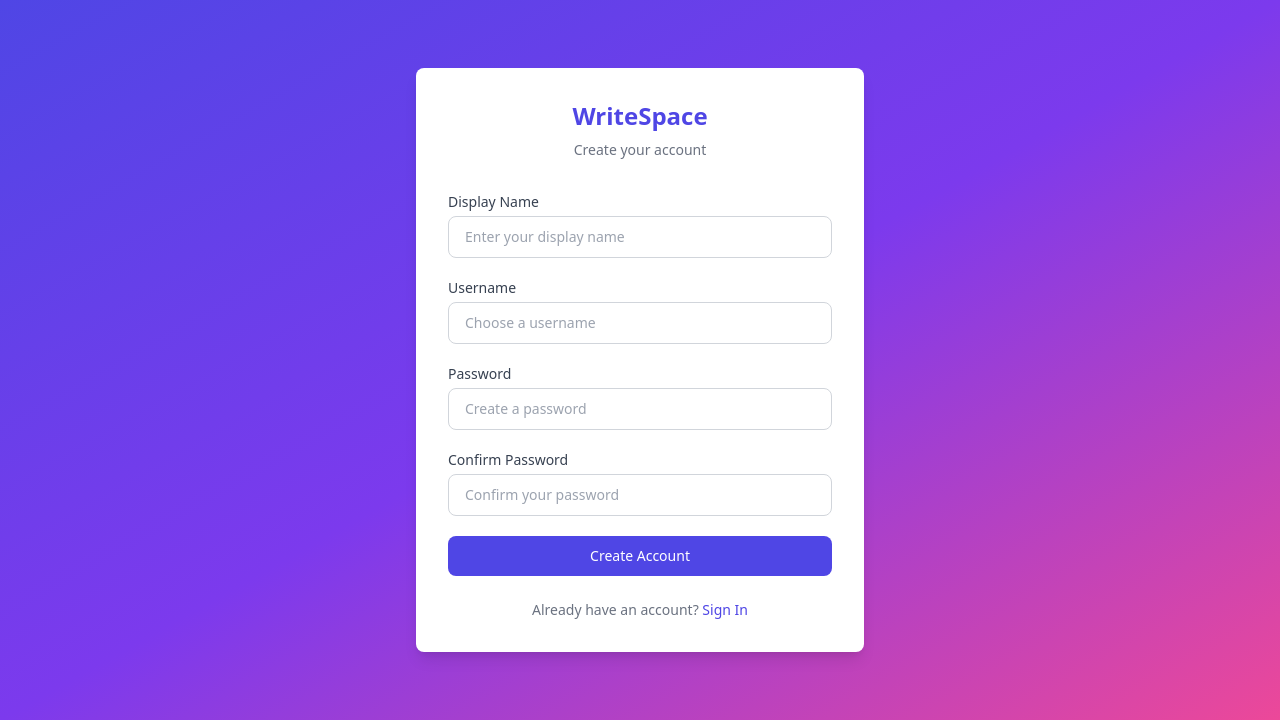
RegisterPage › validation › displays error when display name is empty
In the field labelled "Username": x=640, y=323 [448, 302, 832, 344], type "johndoe"
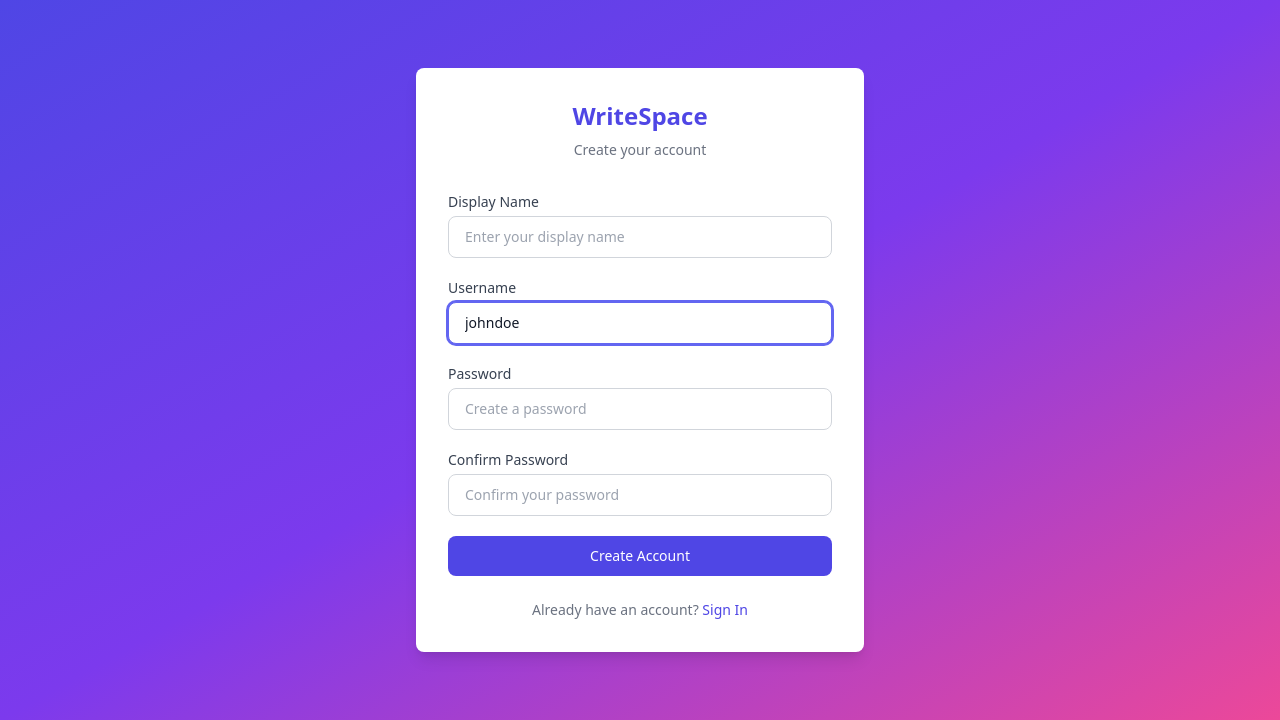
In the password field labelled "Password": x=640, y=409 [448, 388, 832, 430], type "pass123"
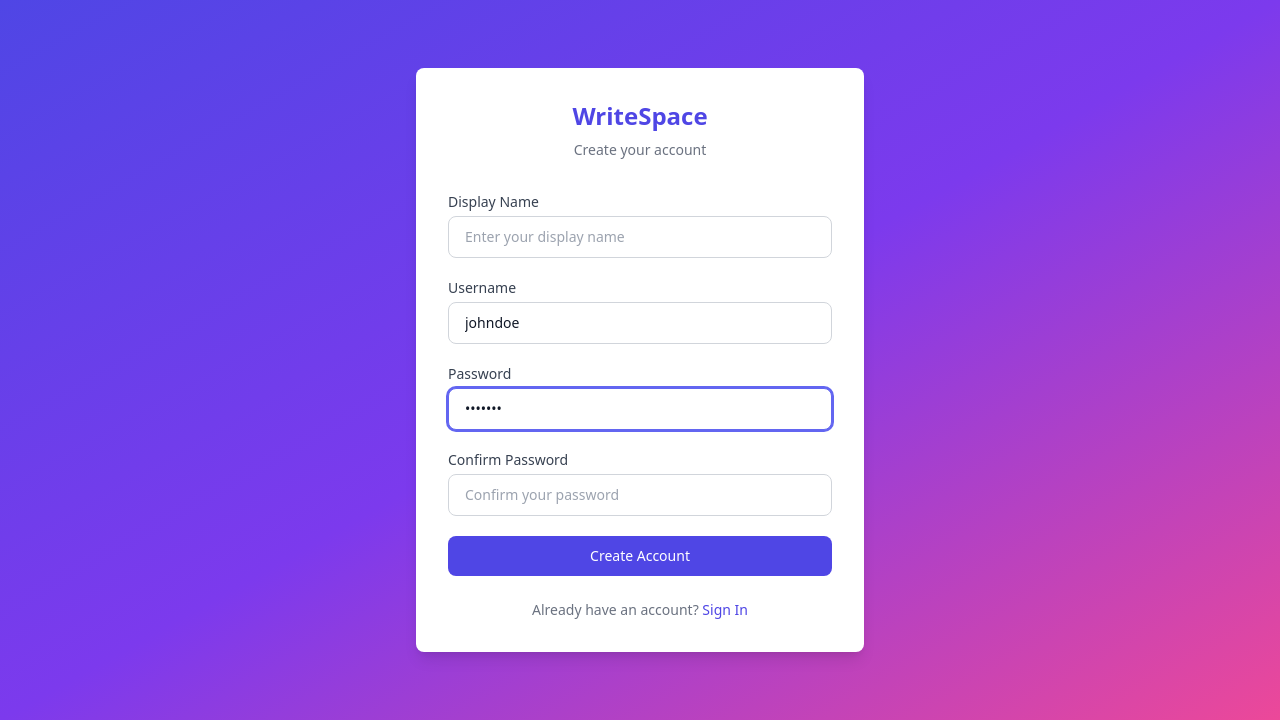
In the password field labelled "Confirm Password": x=640, y=495 [448, 474, 832, 516], type "pass123"
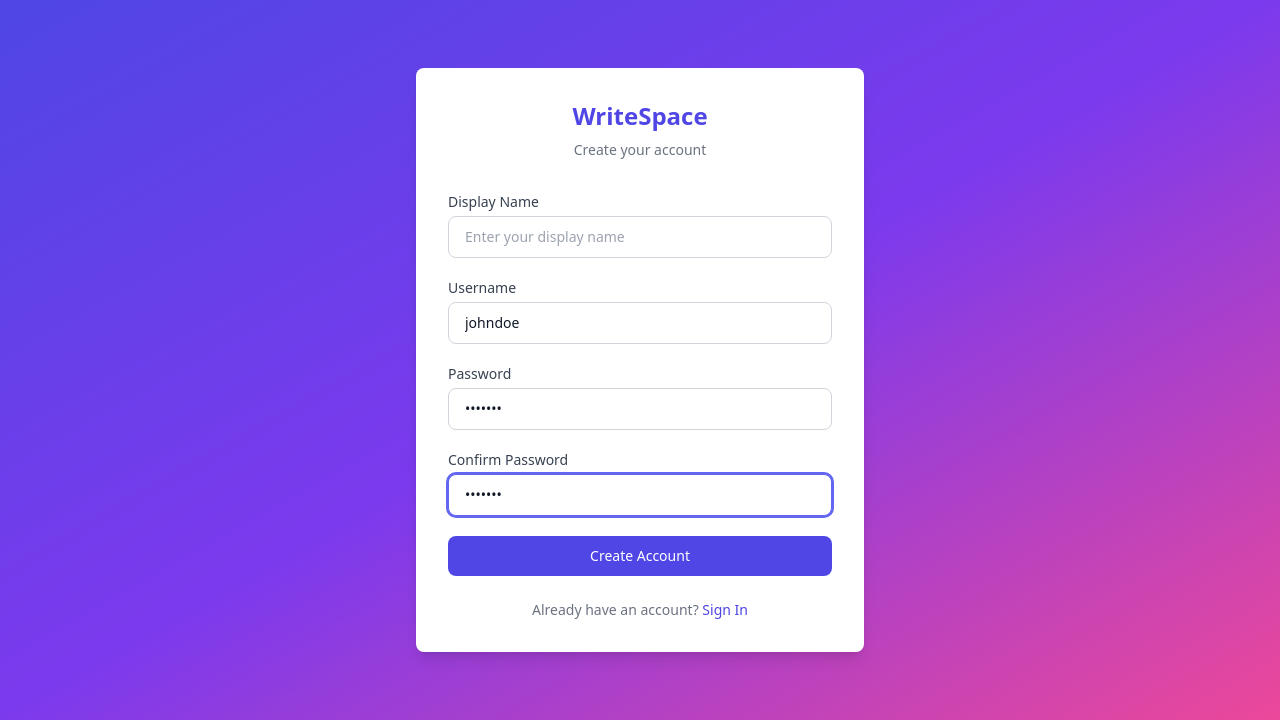
Click the button "Create Account": x=640, y=556 [448, 536, 832, 576]
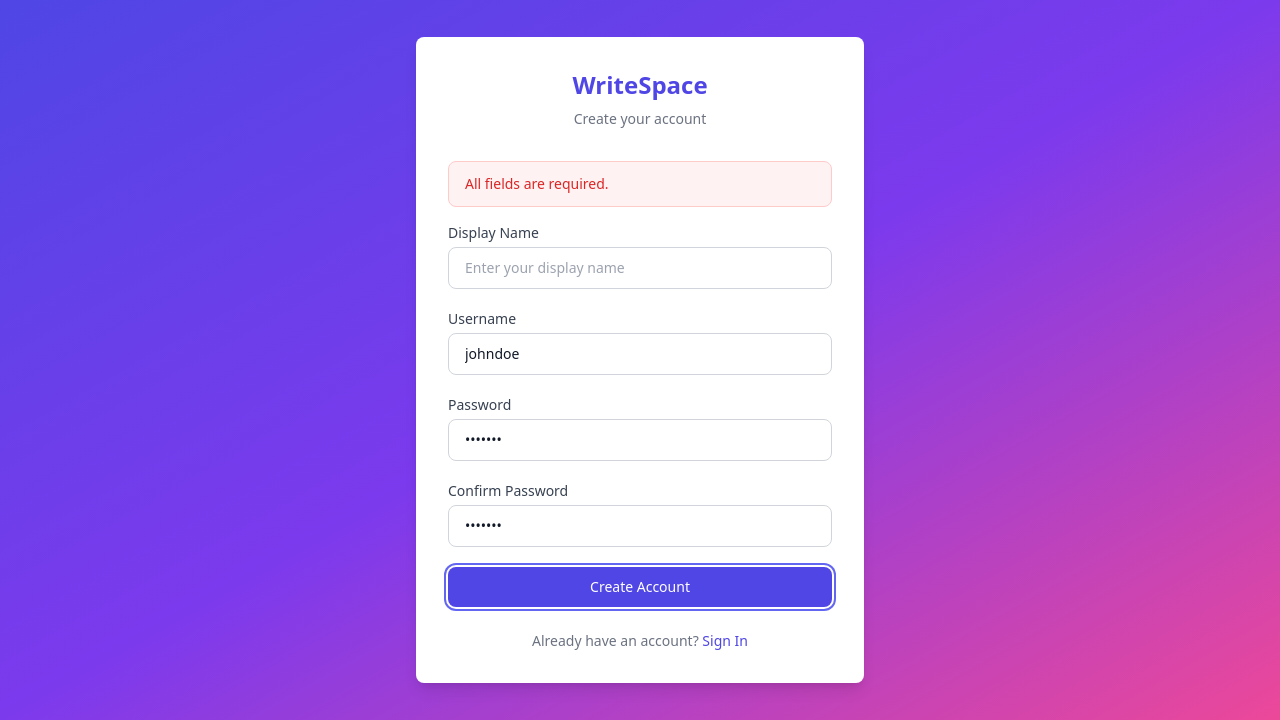
Now the text "All fields are required." is shown, box [448, 161, 832, 207]
